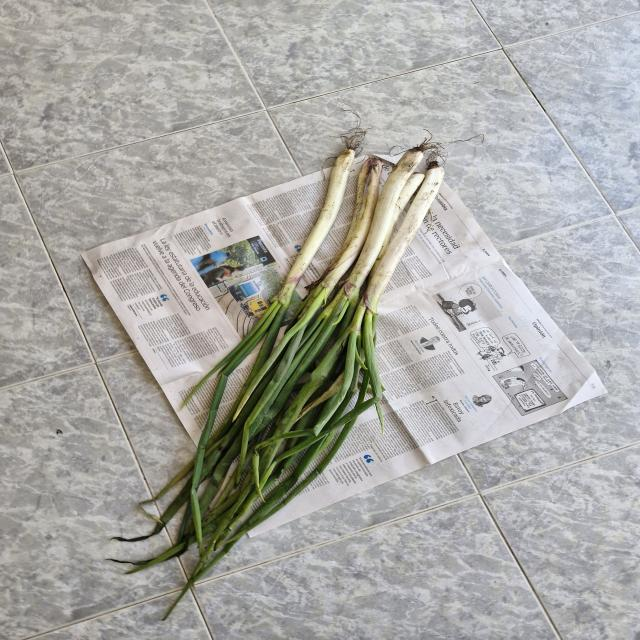green_onion: (189, 140, 356, 508), (290, 150, 450, 470)
